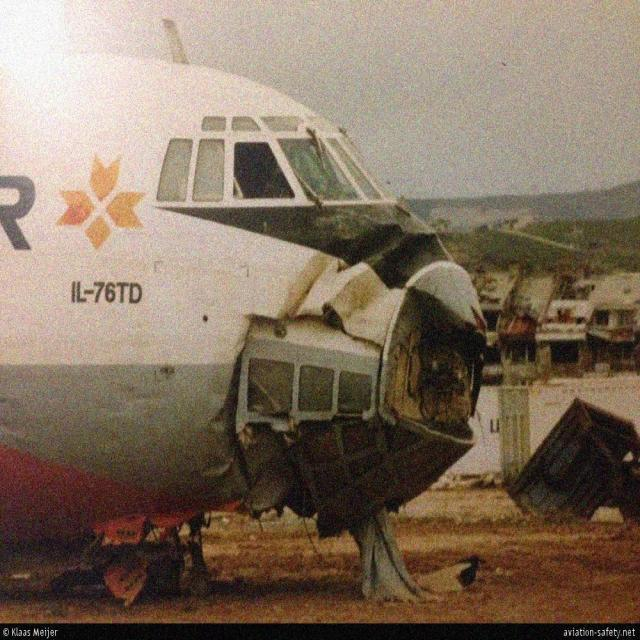dent: (202, 457, 241, 478), (207, 409, 232, 438)
